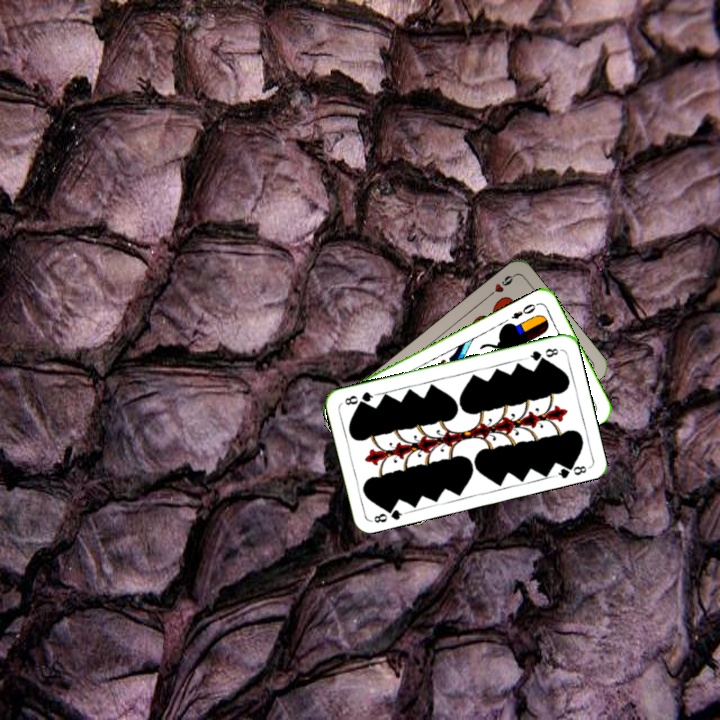EO: (507, 300, 538, 322)
G8: (368, 502, 408, 526), (523, 344, 561, 363)
H9: (483, 271, 517, 300)
